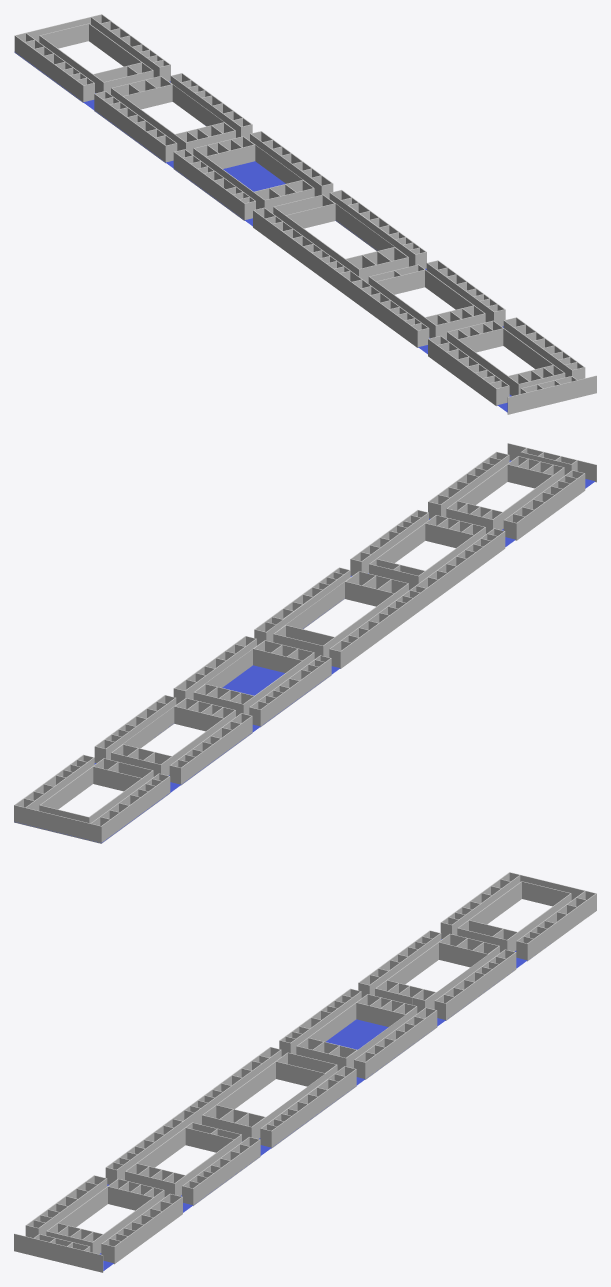
The model's file is piani3.fbx.
The picture shows the model from 3 angles, top to bottom: view 1: azimuth 30°, elevation 25°; view 2: azimuth 150°, elevation 25°; view 3: azimuth 330°, elevation 25°; orthographic projection.
Visible parts, largest first — view 1: FP3.walls, FP3.floor; view 2: FP3.walls, FP3.floor; view 3: FP3.walls, FP3.floor.
Boxes of the visible parts, <box> form: FP3.walls: <box>14,14,596,414</box>; FP3.floor: <box>14,52,511,412</box>; FP3.walls: <box>14,443,596,843</box>; FP3.floor: <box>14,460,594,843</box>; FP3.walls: <box>14,872,596,1272</box>; FP3.floor: <box>99,939,527,1270</box>.
Bounding box in the file's own units: 230 × 42.73 × 2215.
